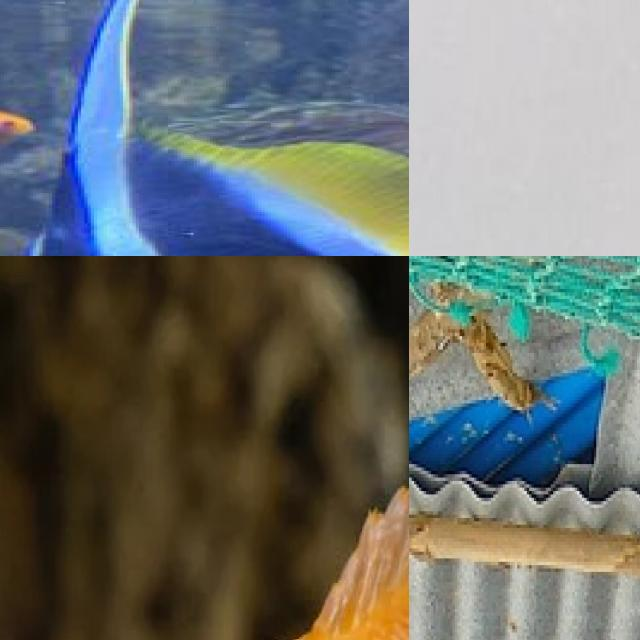fish: (0, 0, 409, 256)
